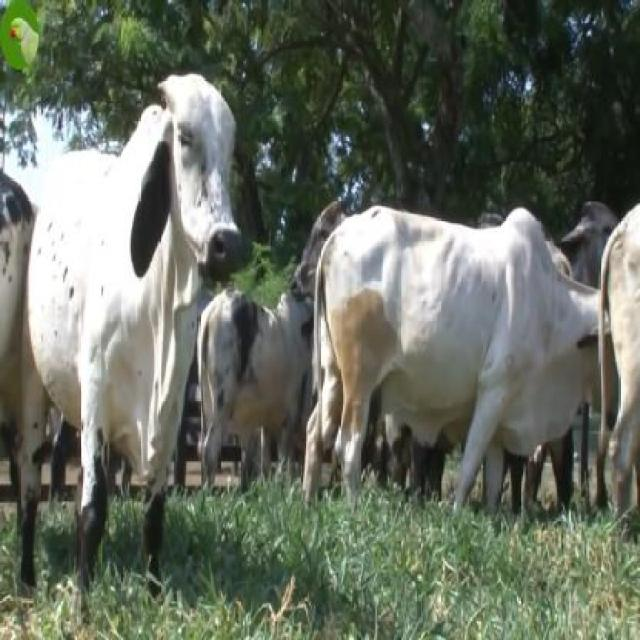Cow: (17, 74, 248, 598)
